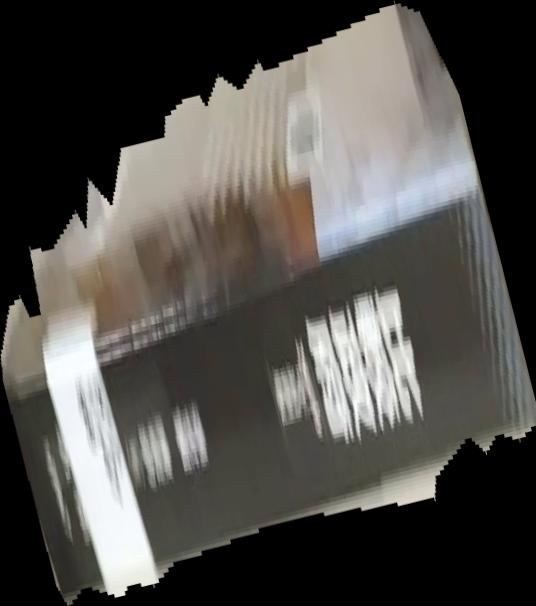flat: (1, 1, 536, 606)
